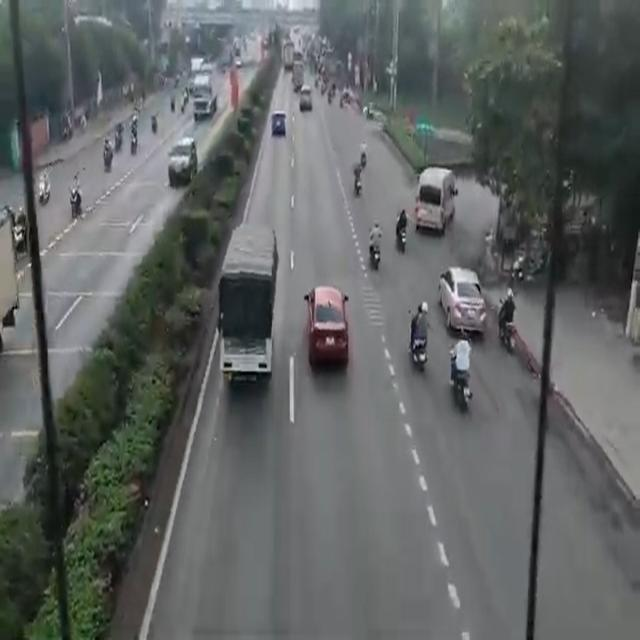car: (304, 285, 350, 368), (438, 268, 486, 328), (420, 168, 456, 230), (168, 141, 193, 179), (274, 105, 285, 132)
motor: (451, 340, 467, 406), (407, 307, 422, 370), (499, 295, 515, 353), (392, 208, 410, 253), (100, 137, 118, 173), (368, 224, 382, 265), (354, 158, 367, 198)
truck: (217, 218, 271, 385), (194, 66, 214, 115)
